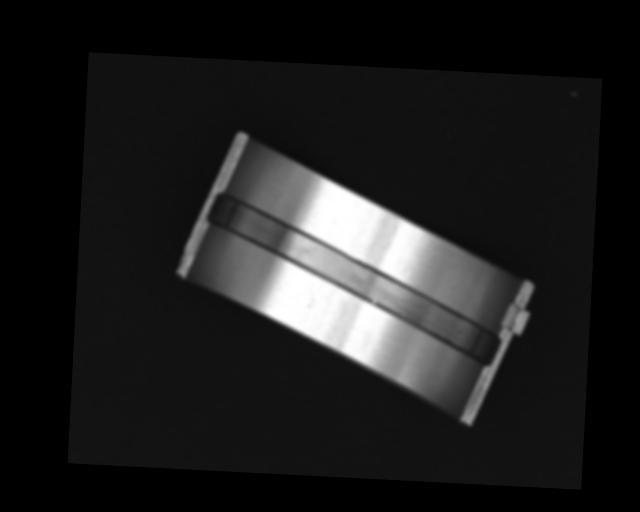gap: (199, 190, 508, 364)
